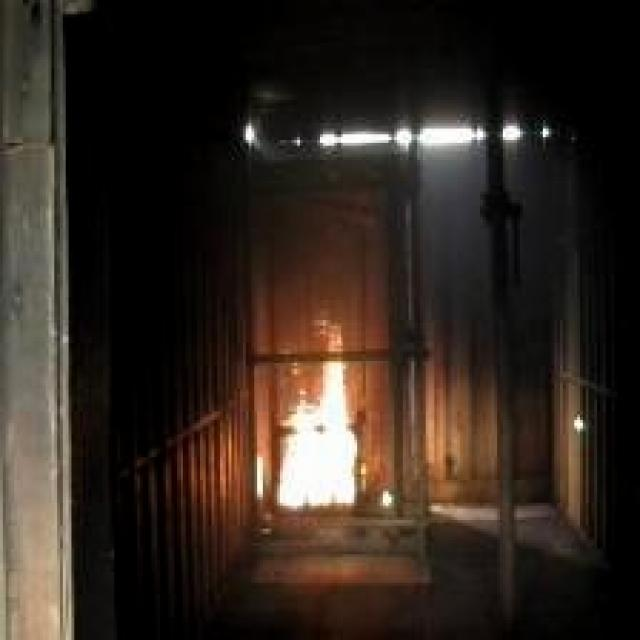fire: (255, 326, 372, 517)
